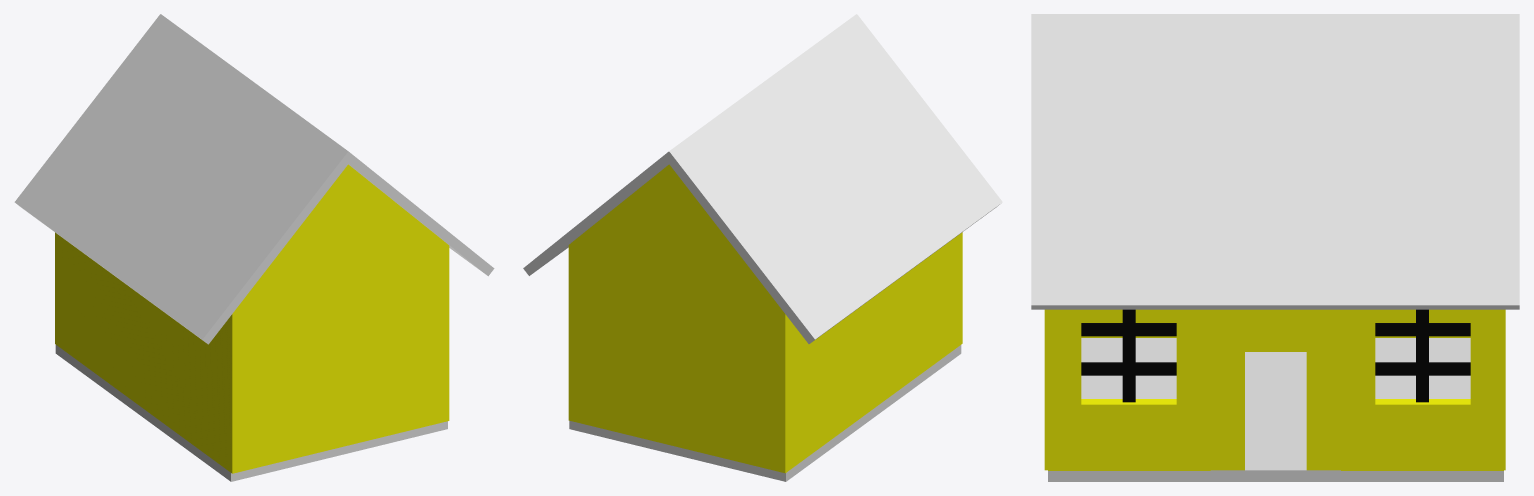
File: House.fbx
The picture shows the model from 3 angles, left to right: view 1: azimuth 30°, elevation 25°; view 2: azimuth 150°, elevation 25°; view 3: azimuth 270°, elevation 25°; orthographic projection. The views are drawn at different scales.
Visible parts, largest first — view 1: Front Right Window Frame; view 2: Front Right Window Frame; view 3: Front Right Window Frame.
Boxes of the visible parts, x1,y1,x2,y2 form: Front Right Window Frame: [14, 14, 494, 481]; Front Right Window Frame: [523, 14, 1002, 481]; Front Right Window Frame: [1031, 14, 1519, 481].
Size of the model in its own units: 1346 by 1357 by 1500.
